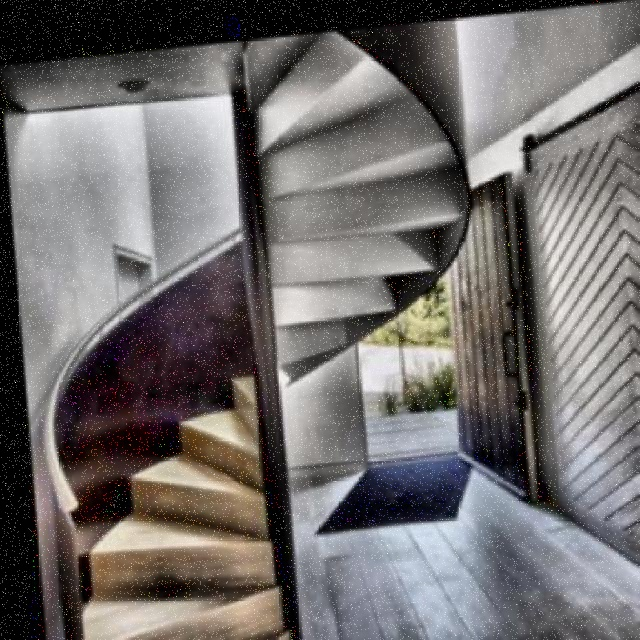stair: (34, 360, 292, 638)
